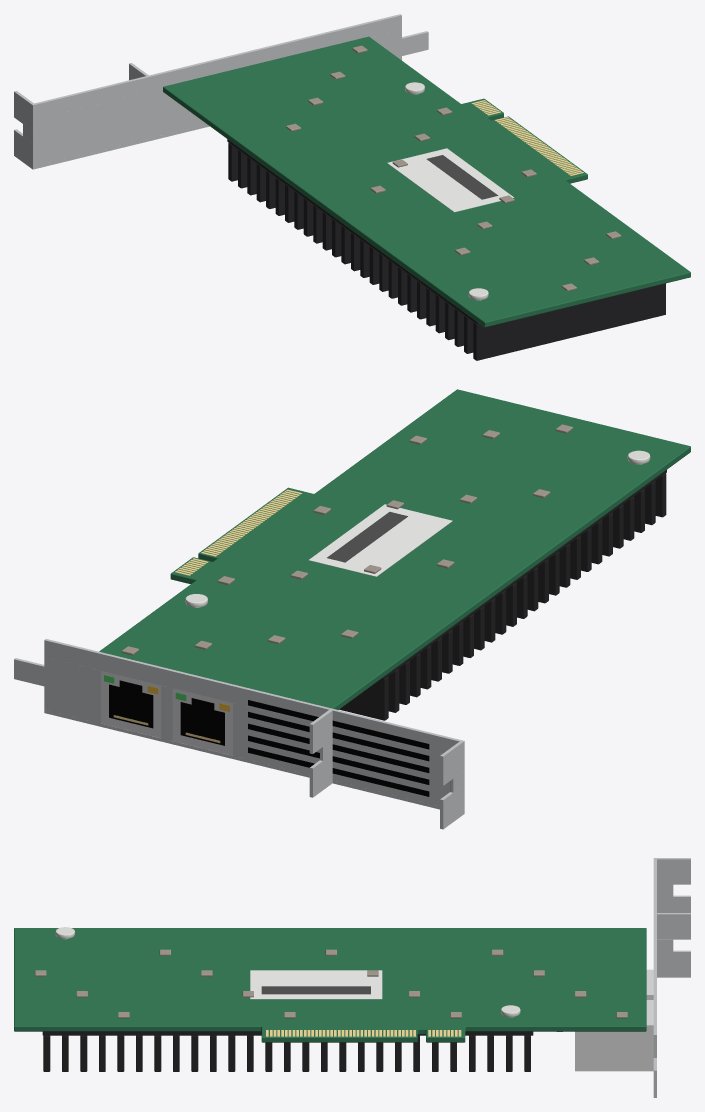
File: NIC_X540T2class.glb
The picture shows the model from 3 angles, top to bottom: view 1: azimuth 30°, elevation 25°; view 2: azimuth 150°, elevation 25°; view 3: azimuth 270°, elevation 25°; orthographic projection. The views are drawn at different scales.
Visible parts, largest first — view 1: NIC_X540T2class_PCB, NIC_X540T2class_Heatsink, NIC_X540T2class_Bracket_FullHeight, NIC_X540T2class_Label, NIC_X540T2class_Bracket_LowProfile, NIC_X540T2class_Components, NIC_X540T2class_Contacts; view 2: NIC_X540T2class_PCB, NIC_X540T2class_Bracket_FullHeight, NIC_X540T2class_Heatsink, NIC_X540T2class_Ports, NIC_X540T2class_Bracket_LowProfile, NIC_X540T2class_Label, NIC_X540T2class_Components, NIC_X540T2class_Contacts; view 3: NIC_X540T2class_PCB, NIC_X540T2class_Heatsink, NIC_X540T2class_Label, NIC_X540T2class_Ports, NIC_X540T2class_Bracket_FullHeight, NIC_X540T2class_Bracket_LowProfile, NIC_X540T2class_Components, NIC_X540T2class_Contacts.
Part boxes in pixels (box(x1,y1,x2,y2)): NIC_X540T2class_PCB: box(163, 36, 690, 327); NIC_X540T2class_Heatsink: box(227, 82, 665, 360); NIC_X540T2class_Bracket_FullHeight: box(14, 14, 428, 169); NIC_X540T2class_Label: box(387, 148, 514, 212); NIC_X540T2class_Bracket_LowProfile: box(129, 55, 235, 140); NIC_X540T2class_Components: box(286, 45, 621, 326); NIC_X540T2class_Contacts: box(471, 100, 583, 175); NIC_X540T2class_PCB: box(99, 389, 690, 709); NIC_X540T2class_Bracket_FullHeight: box(14, 639, 464, 829); NIC_X540T2class_Heatsink: box(185, 450, 666, 720); NIC_X540T2class_Ports: box(101, 671, 232, 755); NIC_X540T2class_Bracket_LowProfile: box(233, 685, 333, 797); NIC_X540T2class_Label: box(309, 504, 452, 576); NIC_X540T2class_Components: box(121, 424, 572, 655); NIC_X540T2class_Contacts: box(175, 489, 302, 575); NIC_X540T2class_PCB: box(14, 928, 646, 1042); NIC_X540T2class_Heatsink: box(42, 927, 533, 1071); NIC_X540T2class_Label: box(250, 970, 382, 999); NIC_X540T2class_Ports: box(575, 969, 653, 1071); NIC_X540T2class_Bracket_FullHeight: box(653, 858, 690, 1097); NIC_X540T2class_Bracket_LowProfile: box(653, 913, 690, 977); NIC_X540T2class_Components: box(35, 949, 627, 1031); NIC_X540T2class_Contacts: box(266, 1030, 461, 1036).
Size of the model in its own units: 0.1189 by 0.0185 by 0.1794.
